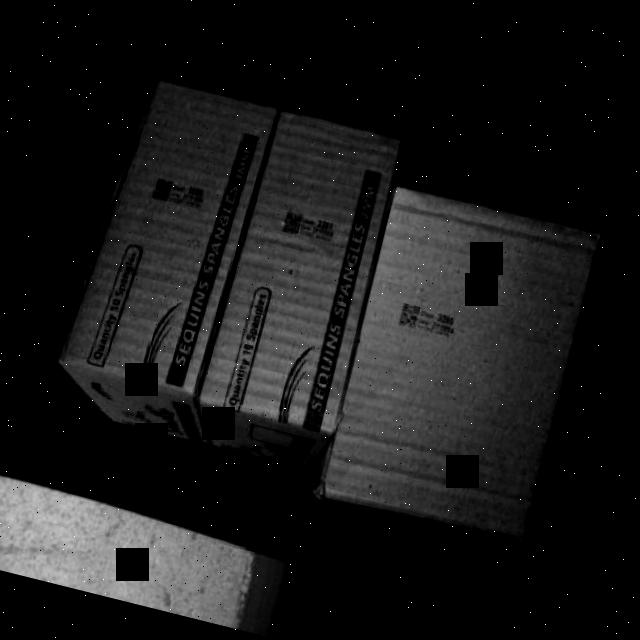box: (327, 189, 596, 536), (72, 78, 280, 392), (210, 116, 400, 428)
